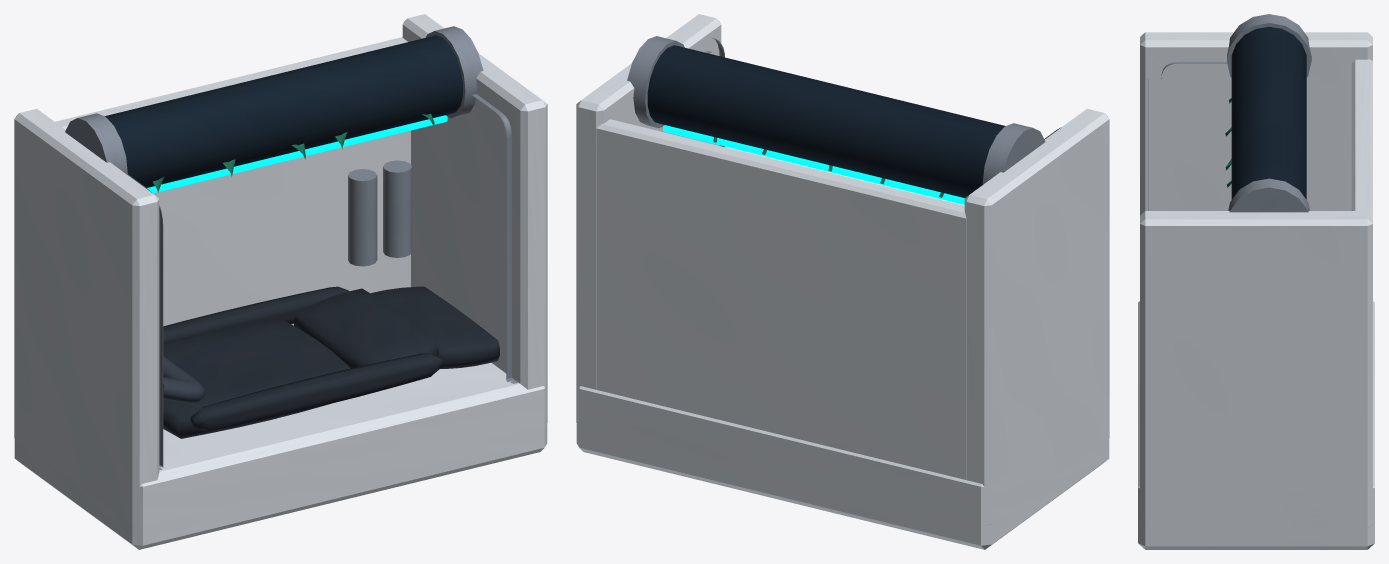
The model's file is bunk_r1_09.glb.
The picture shows the model from 3 angles, left to right: view 1: azimuth 30°, elevation 25°; view 2: azimuth 150°, elevation 25°; view 3: azimuth 270°, elevation 25°; orthographic projection. The views are drawn at different scales.
Visible parts, largest first — view 1: BioPod_AerospaceCompositeModule, BioPod_ContouredFlightCouch, BioPod_SealedGlassPhotobioreactorTube, BioPod_TitaniumO2ScrubberConduits, BioPod_CyanUVReactorLight, BioPod_CranialCradle; view 2: BioPod_AerospaceCompositeModule, BioPod_SealedGlassPhotobioreactorTube, BioPod_TitaniumO2ScrubberConduits, BioPod_CyanUVReactorLight; view 3: BioPod_AerospaceCompositeModule, BioPod_SealedGlassPhotobioreactorTube, BioPod_TitaniumO2ScrubberConduits.
Part boxes in pixels (x1,y1,x2,y2): BioPod_AerospaceCompositeModule: (14,14,547,549); BioPod_ContouredFlightCouch: (163,286,499,438); BioPod_SealedGlassPhotobioreactorTube: (105,35,462,187); BioPod_TitaniumO2ScrubberConduits: (65,26,517,469); BioPod_CyanUVReactorLight: (147,115,447,193); BioPod_CranialCradle: (163,356,204,402); BioPod_AerospaceCompositeModule: (576,14,1109,549); BioPod_SealedGlassPhotobioreactorTube: (647,45,1005,197); BioPod_TitaniumO2ScrubberConduits: (627,36,1061,184); BioPod_CyanUVReactorLight: (663,125,964,204); BioPod_AerospaceCompositeModule: (1138,32,1374,549); BioPod_SealedGlassPhotobioreactorTube: (1231,26,1306,199); BioPod_TitaniumO2ScrubberConduits: (1148,14,1311,212).
Size of the model in its own units: 2.14 by 1.86 by 1.12.
7 materials, 7 textured.
